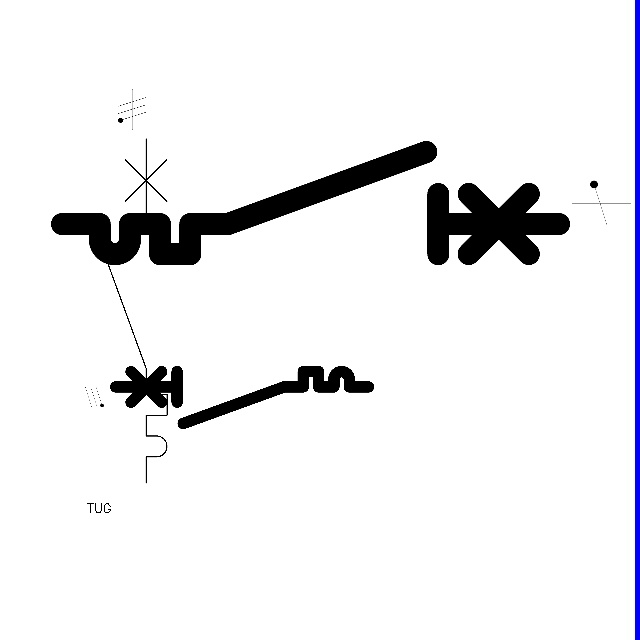interruptor_termomagnetico: (49, 139, 571, 267), (87, 130, 176, 492), (109, 365, 374, 430)
